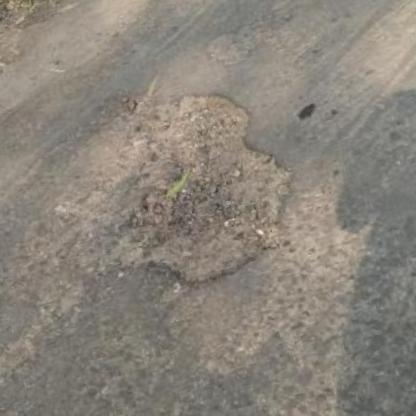pothole: (75, 66, 316, 308), (201, 22, 266, 72)
